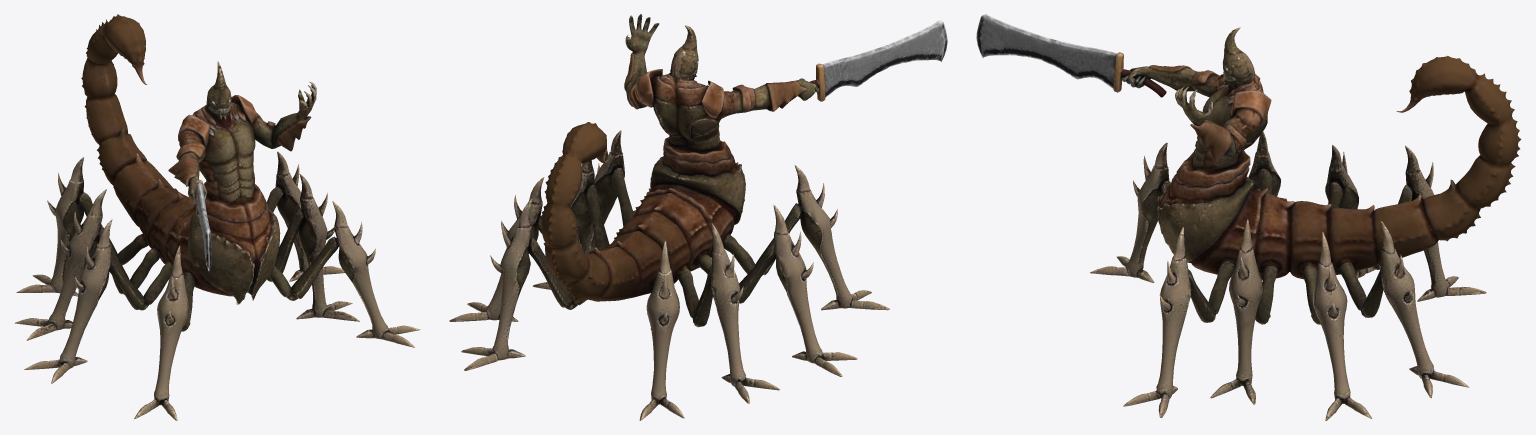
File: MZ4250 - Tlincalli.glb
3 renders of one model, left to right at view 1: azimuth 30°, elevation 25°; view 2: azimuth 150°, elevation 25°; view 3: azimuth 270°, elevation 25°, orthographic. The views are drawn at different scales.
Parts seen in each view (by area): view 1: Cube.001; view 2: Cube.001; view 3: Cube.001.
Boxes of the visible parts, box(x1,y1,x2,y2) form: Cube.001: box(15, 14, 420, 420); Cube.001: box(449, 14, 947, 420); Cube.001: box(976, 14, 1521, 420).
Bounding box in the file's own units: 1.17 × 0.9203 × 1.49.
Materials: 1 (1 with a texture image).
